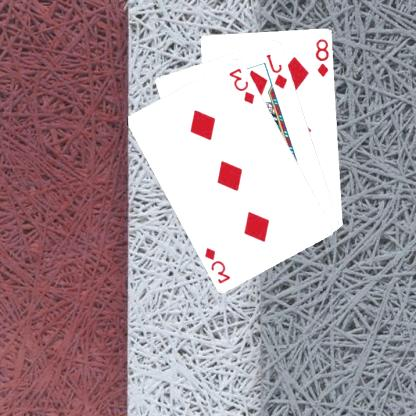3D: (228, 65, 258, 105), (204, 244, 233, 284)
8D: (315, 36, 332, 78)
JD: (265, 51, 290, 90)
